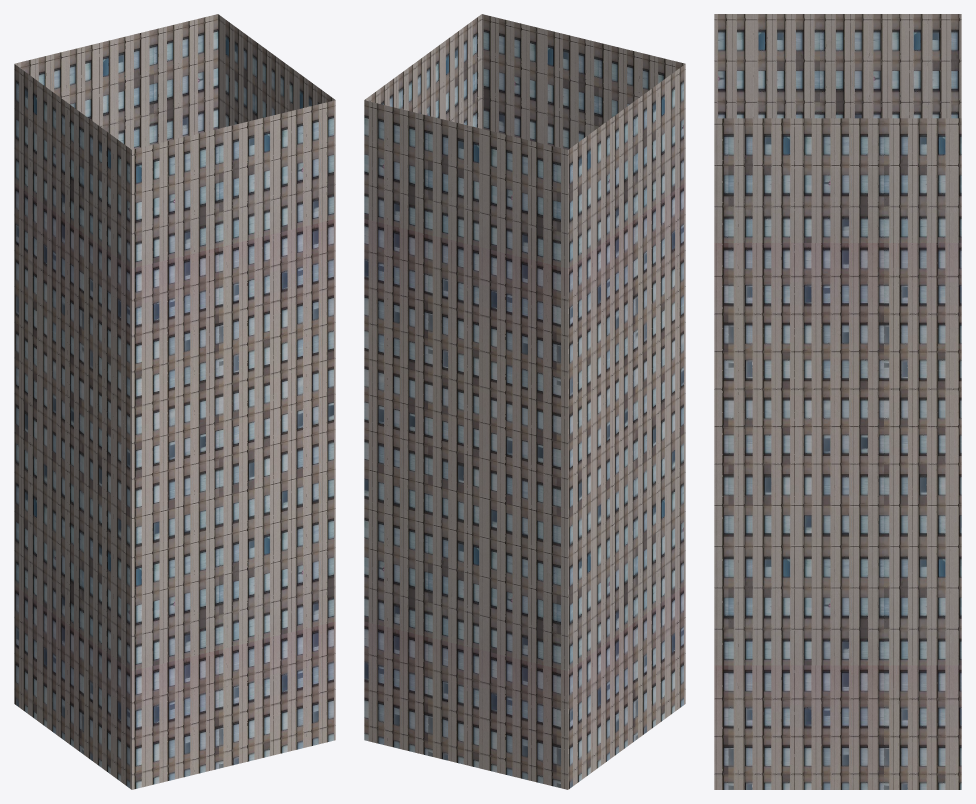
The model's file is building_1.obj.
3 views of the same model, side by side, from view 1: azimuth 30°, elevation 25°; view 2: azimuth 150°, elevation 25°; view 3: azimuth 270°, elevation 25° (orthographic). The views are drawn at different scales.
Parts seen in each view (by area): view 1: Cube; view 2: Cube; view 3: Cube.
Part boxes in pixels (x1=…): Cube: x1=14, y1=14, x2=335, y2=789; Cube: x1=364, y1=14, x2=685, y2=789; Cube: x1=714, y1=14, x2=961, y2=789.
Bounding box in the file's own units: 20 × 60 × 20.
Materials: 1 (1 with a texture image).
